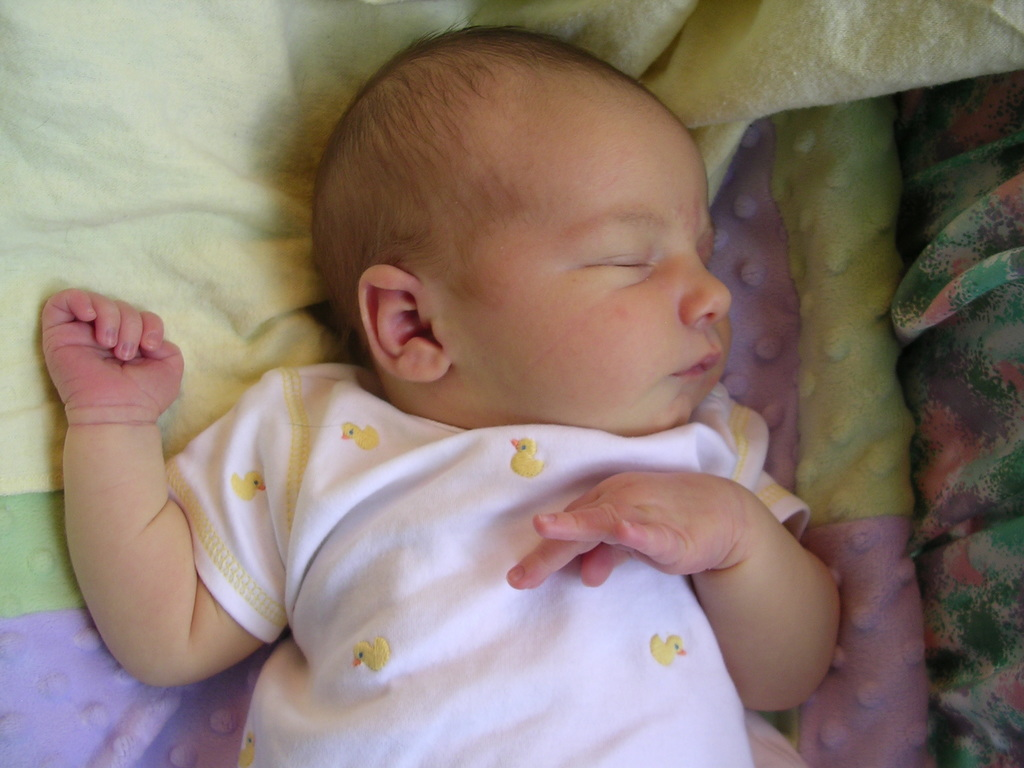Human_hand: (505, 471, 751, 591), (38, 287, 175, 440)
